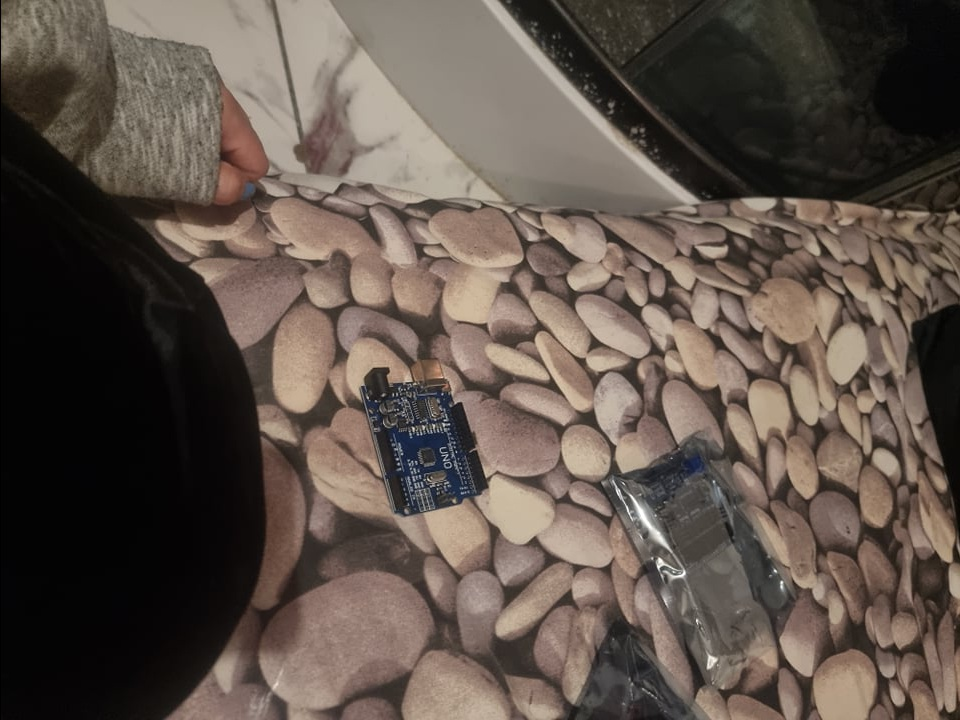UNO R3: (360, 358, 489, 521)
